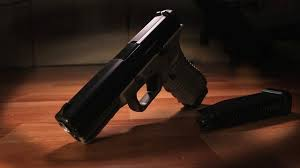gun: (51, 6, 216, 151)
